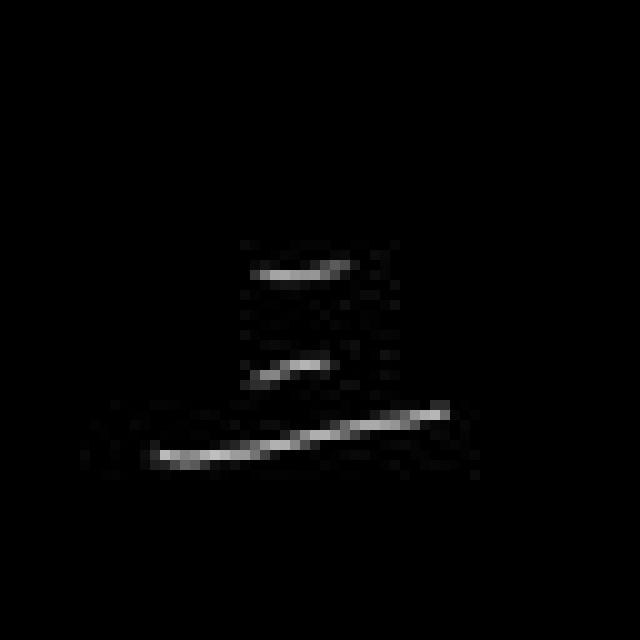3 -three-: (143, 247, 466, 486)
